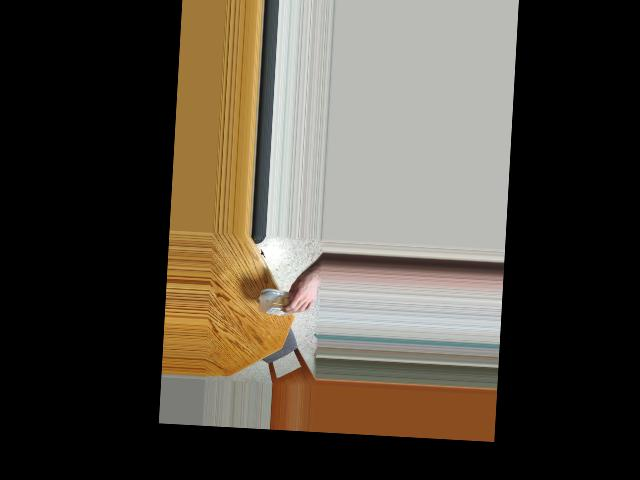cheese: (257, 271, 298, 325)
